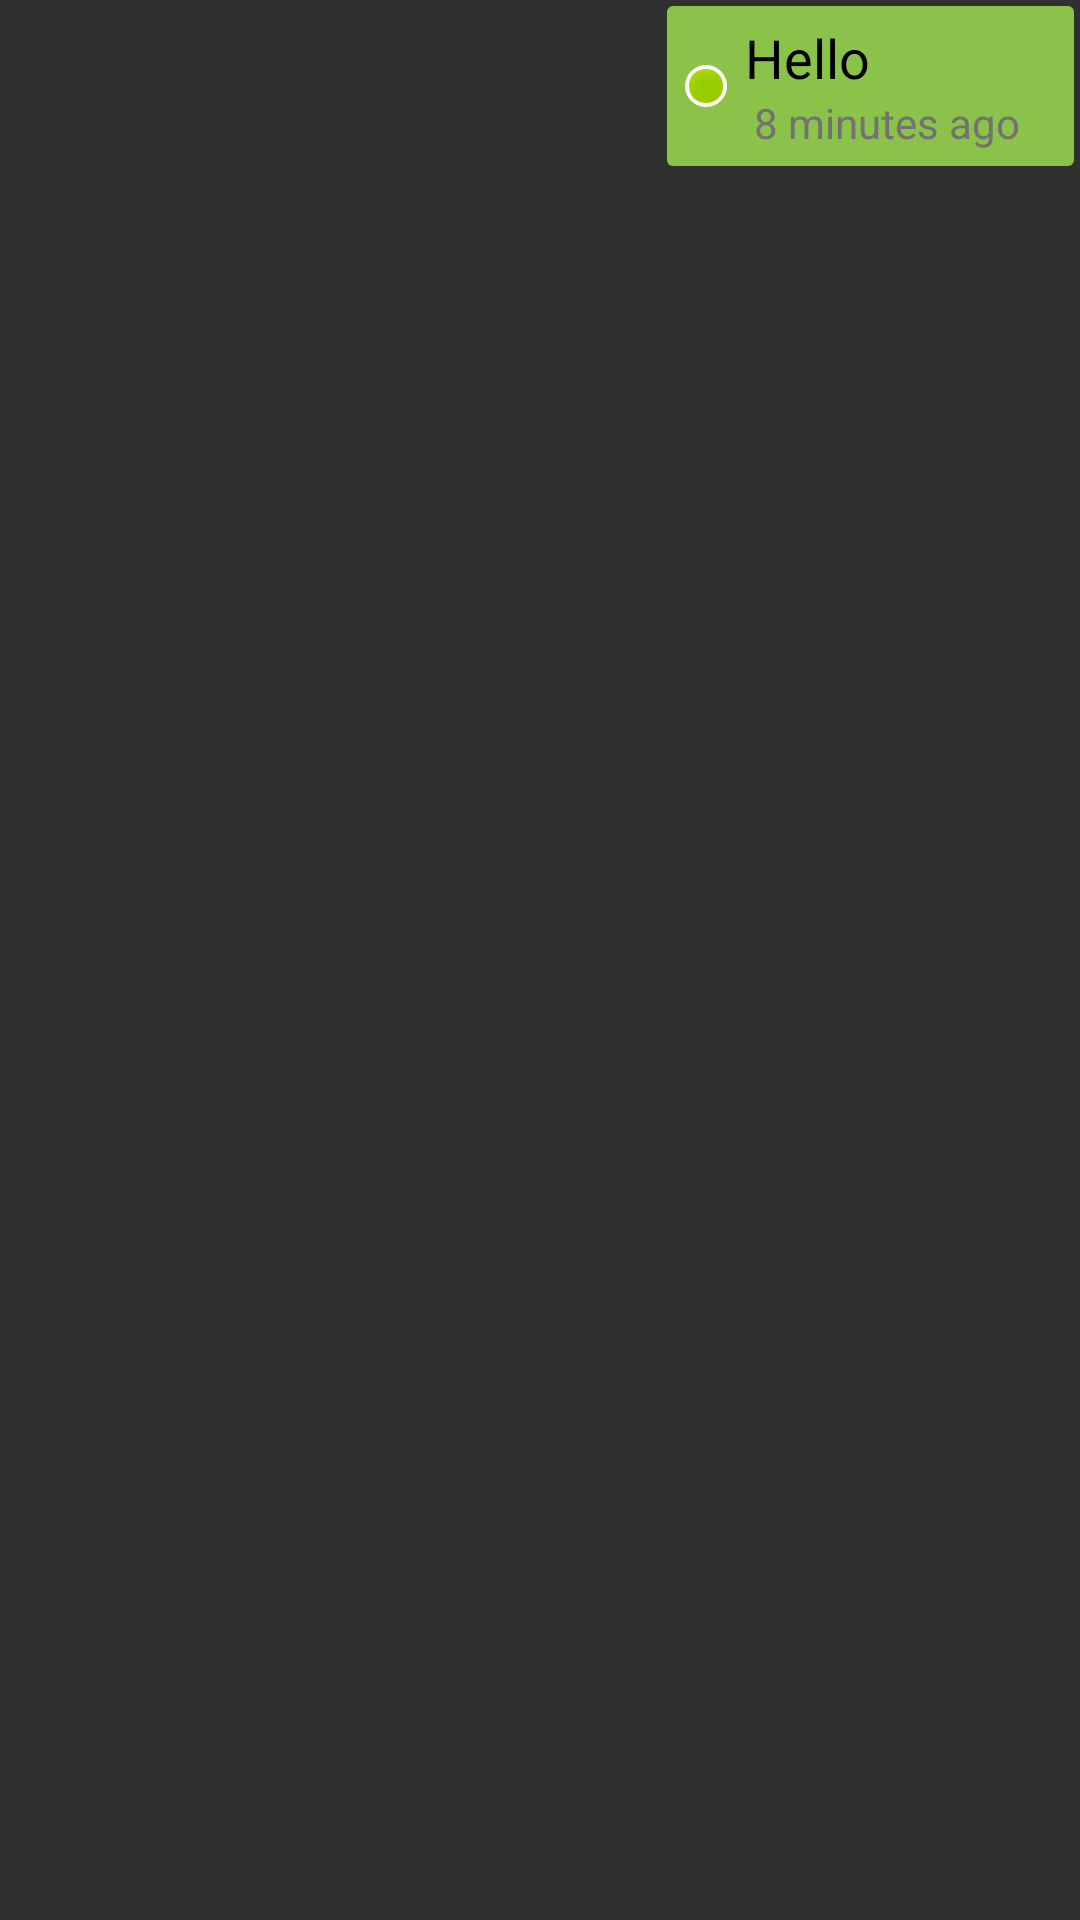

Named icons in this screenshot (1080 × 1920) and their centers, (x=x, y=y):
presence online: (x=706, y=86)
